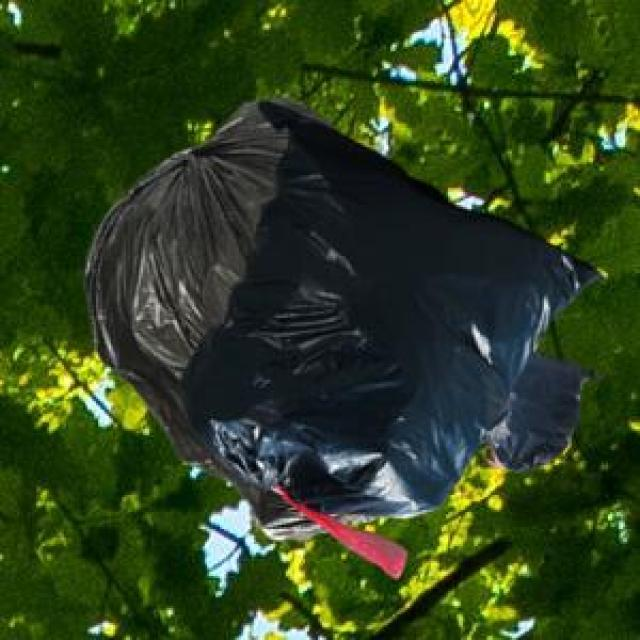Trashbag: (178, 95, 610, 522)
